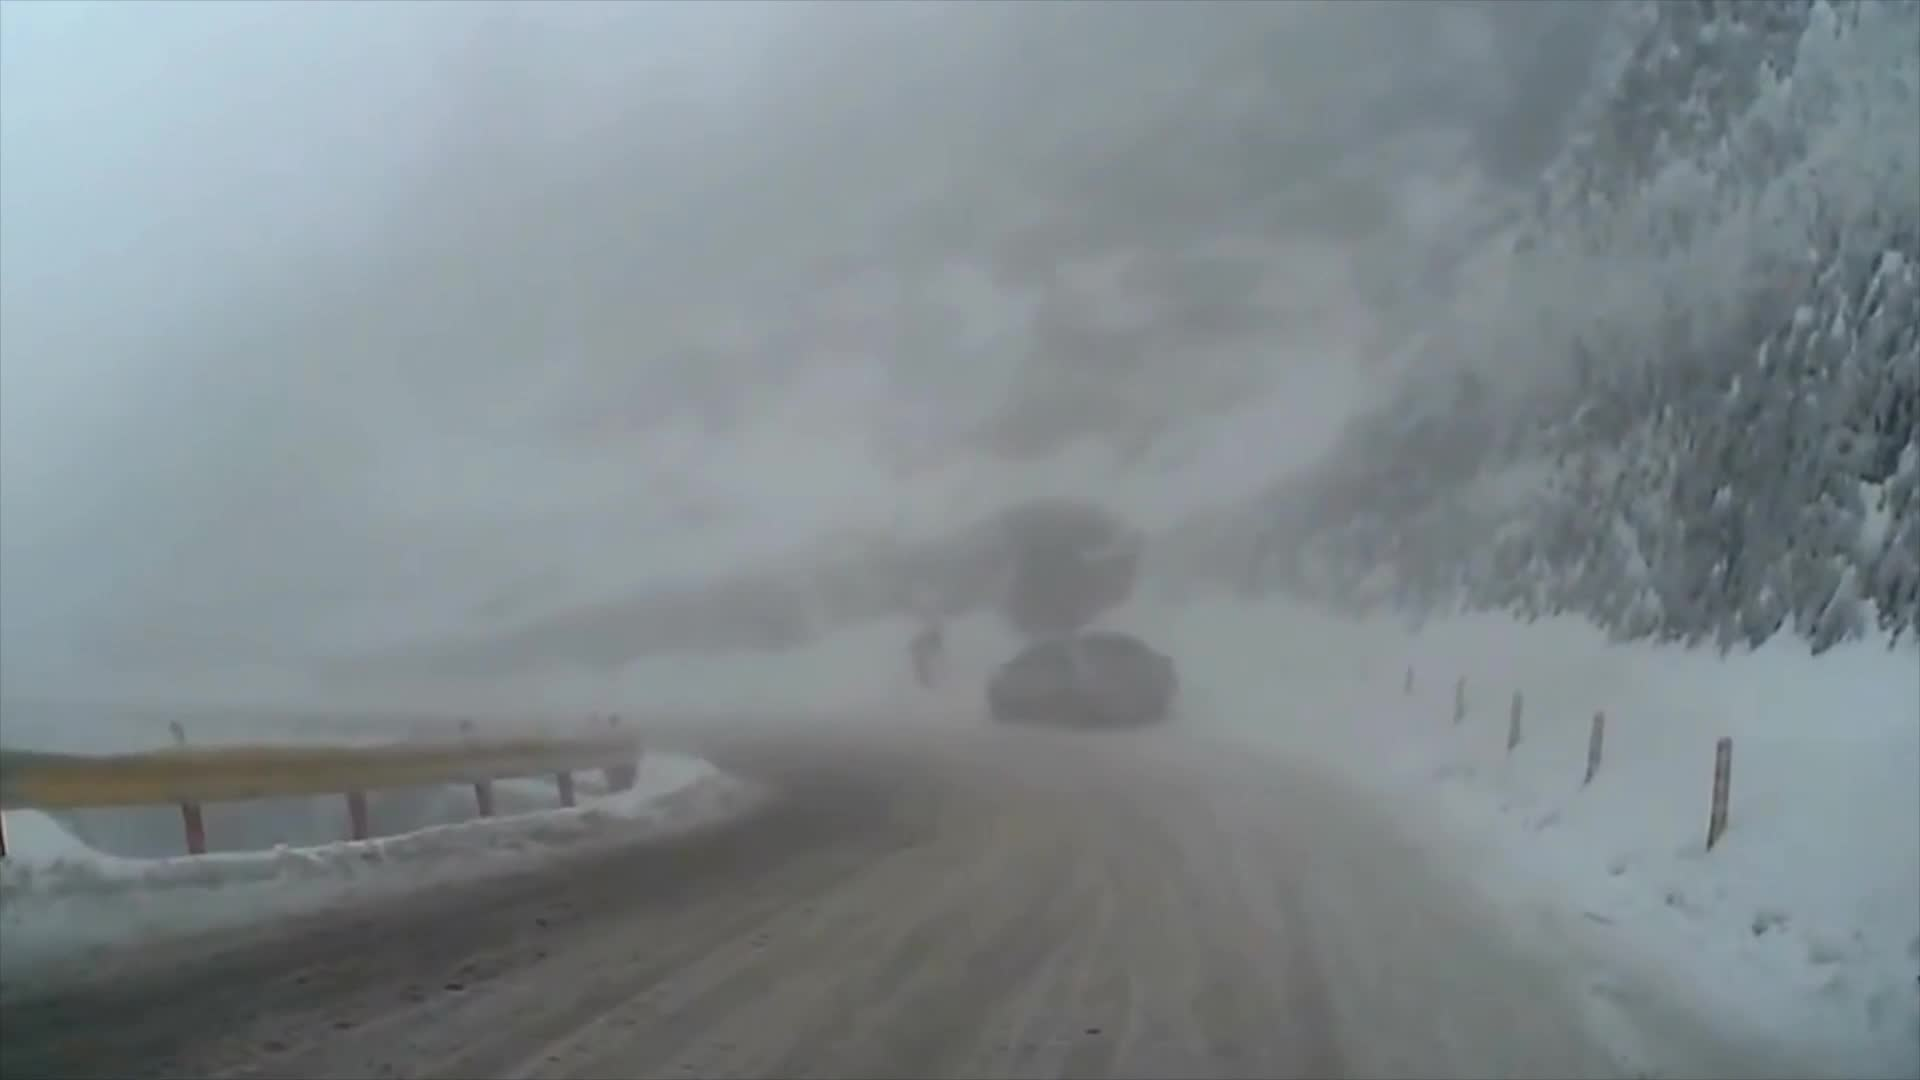pedestrian: (908, 626, 947, 691)
vehicle: (984, 632, 1176, 729)
